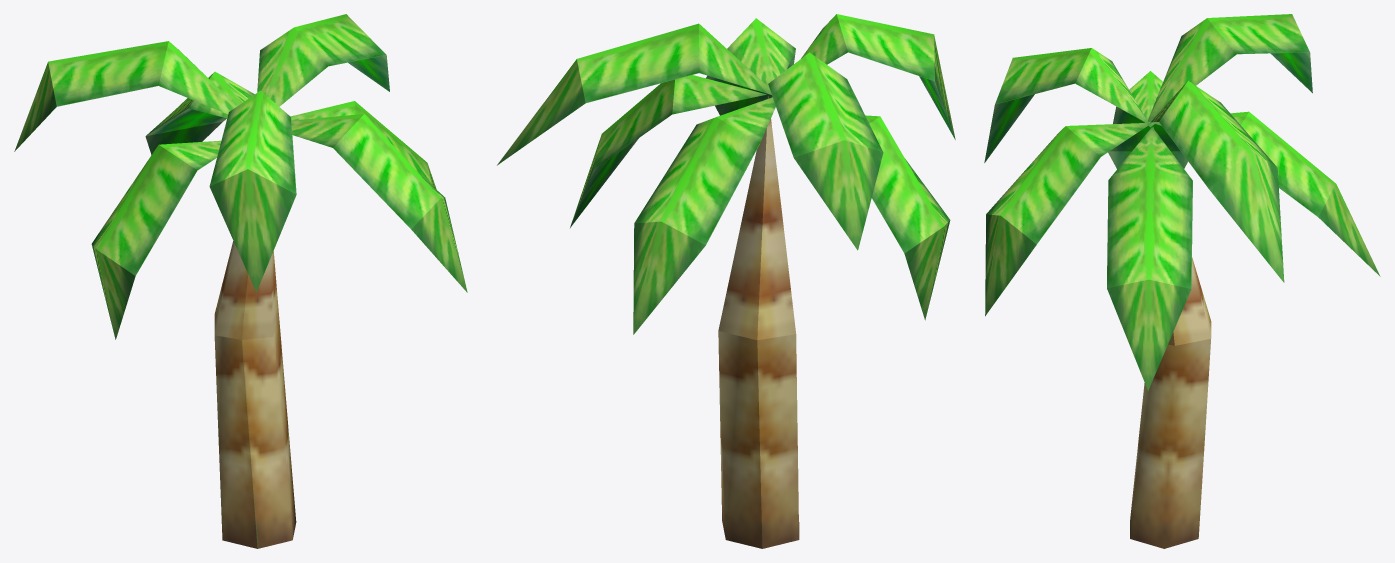
The model's file is TREP.obj.
3 views of the same model, side by side, from view 1: azimuth 30°, elevation 25°; view 2: azimuth 150°, elevation 25°; view 3: azimuth 270°, elevation 25° (orthographic). The views are drawn at different scales.
Visible parts, largest first — view 1: polygon0 Mesh; view 2: polygon0 Mesh; view 3: polygon0 Mesh.
Boxes of the visible parts, x1,y1,x2,y2 form: polygon0 Mesh: [14, 14, 467, 548]; polygon0 Mesh: [497, 14, 955, 548]; polygon0 Mesh: [984, 14, 1380, 548].
Size of the model in its own units: 2.05 by 2.66 by 1.99.
1 material, 1 textured.
